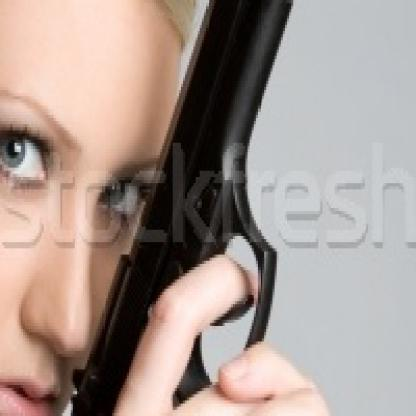gun: (48, 0, 310, 413)
